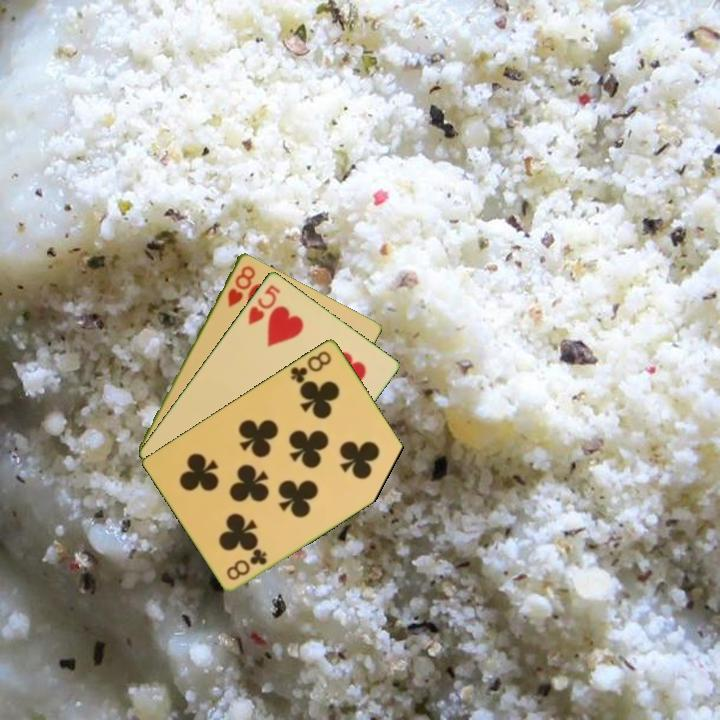5h: (244, 281, 283, 328)
8c: (287, 347, 334, 386), (223, 545, 270, 583)
8h: (224, 262, 258, 310)
